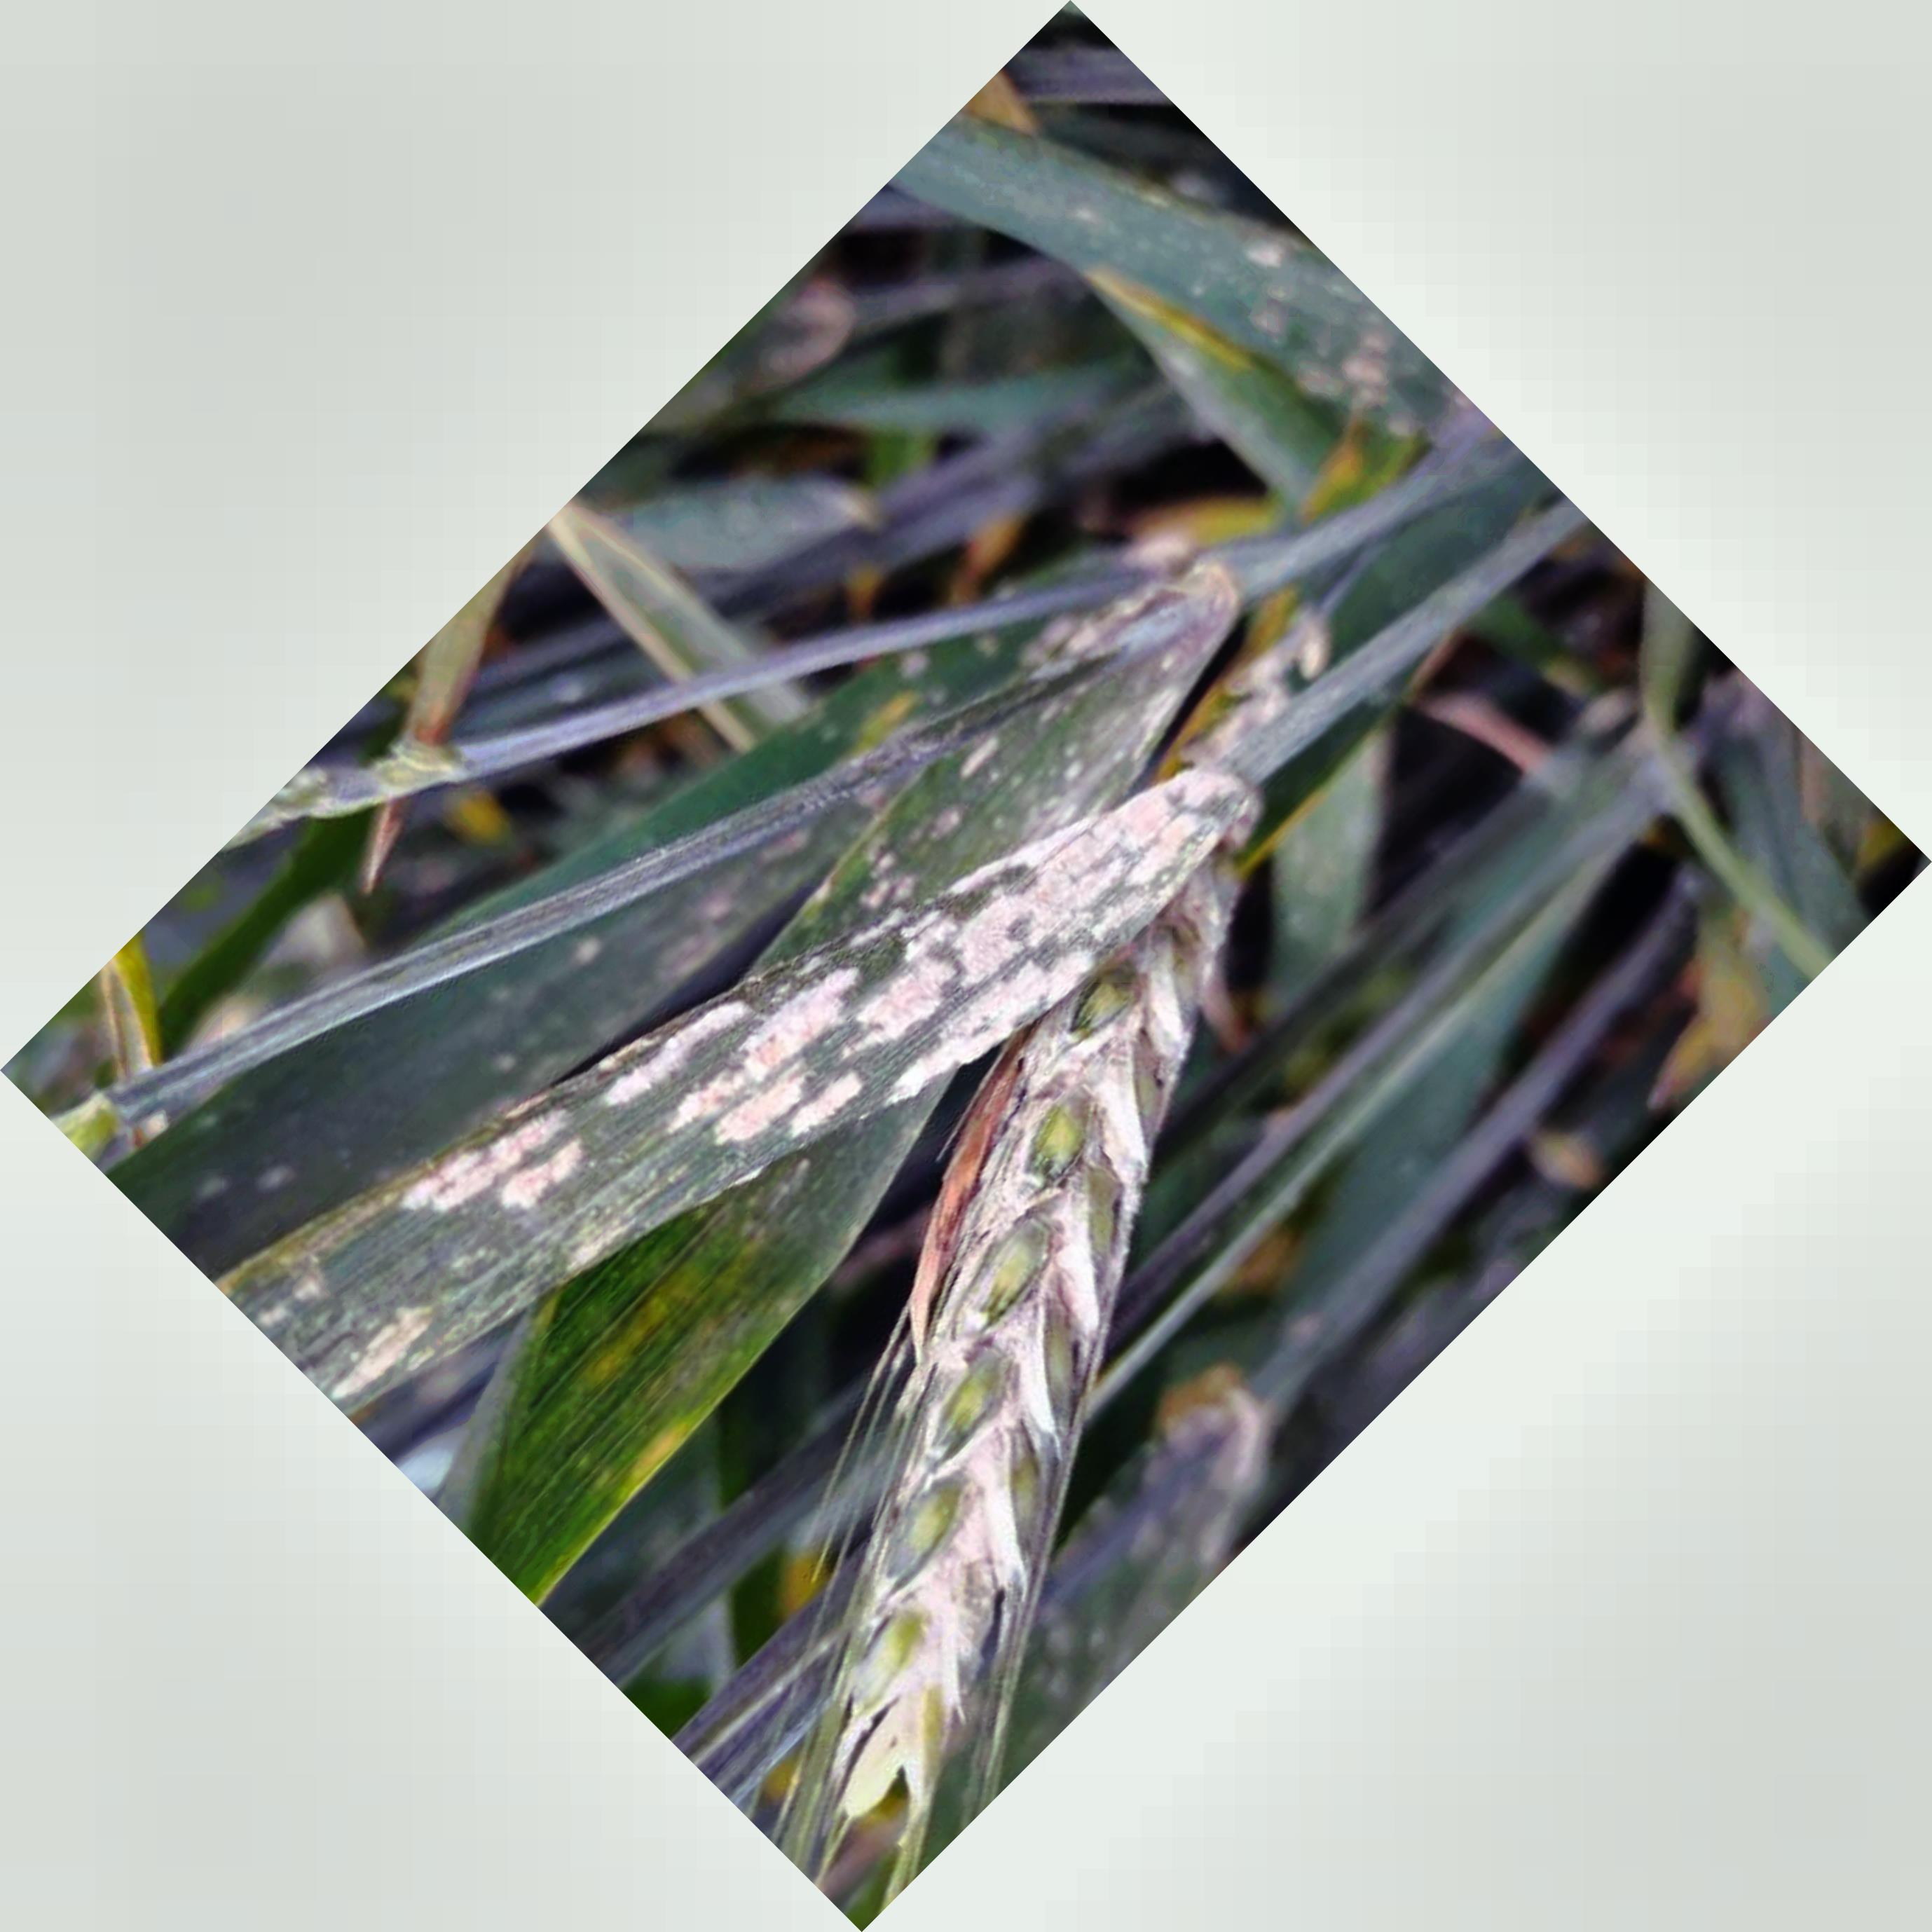Powdery Mildew: (476, 778, 1187, 1231)
